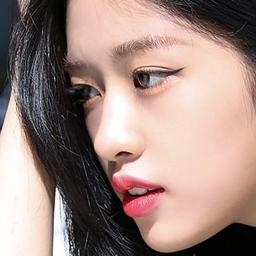face: (69, 0, 245, 252)
